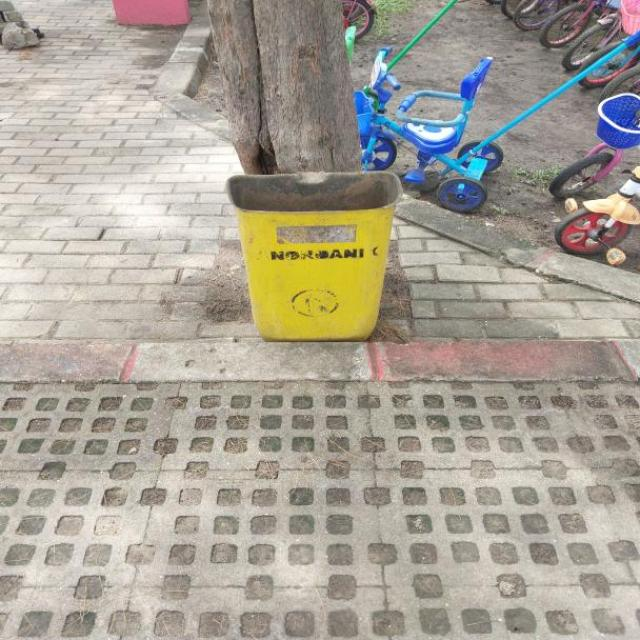dustbin ahead at: (227, 159, 400, 354)
